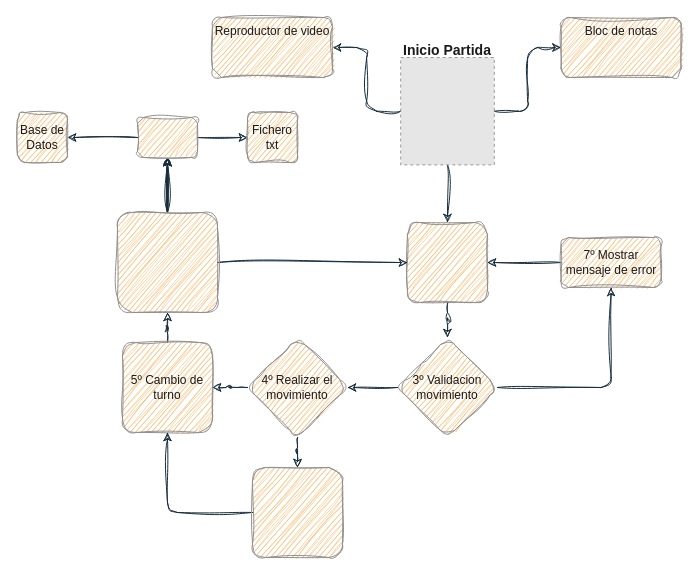
Some shapes in this 699 by 575 pixel diagram are drawn without their labels. Grey dashed boxes stand in for pictures. The centre of each missing label's shape, as x and y in pixels:
"2º Espera de movimiento" belongs at (447,262).
"6º Captura de pieza" belongs at (297,512).
"8º Almacena la informacion" belongs at (167,262).
"Envio de datos" belongs at (167,137).
